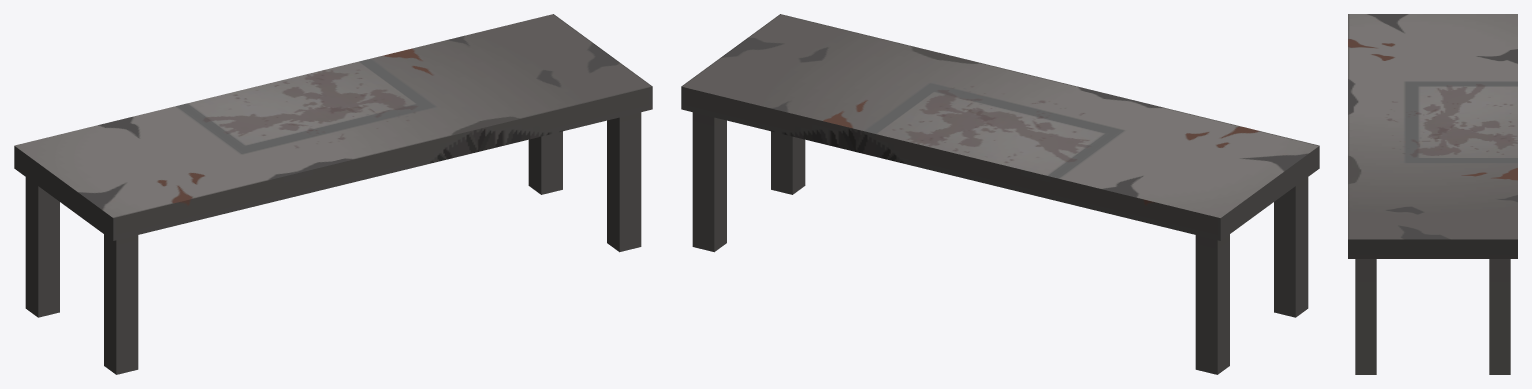
File: Building_AncientTableButcher.obj
3 views of the same model, side by side, from view 1: azimuth 30°, elevation 25°; view 2: azimuth 150°, elevation 25°; view 3: azimuth 270°, elevation 25° (orthographic). The views are drawn at different scales.
Parts seen in each view (by area): view 1: Body; view 2: Body; view 3: Body.
Part boxes in pixels (box(x1,y1,x2,y2)): Body: box(14, 14, 652, 374); Body: box(681, 14, 1319, 374); Body: box(1348, 14, 1517, 374).
Bounding box in the file's own units: 2.97 × 0.85 × 0.9453.
1 material, 1 textured.
